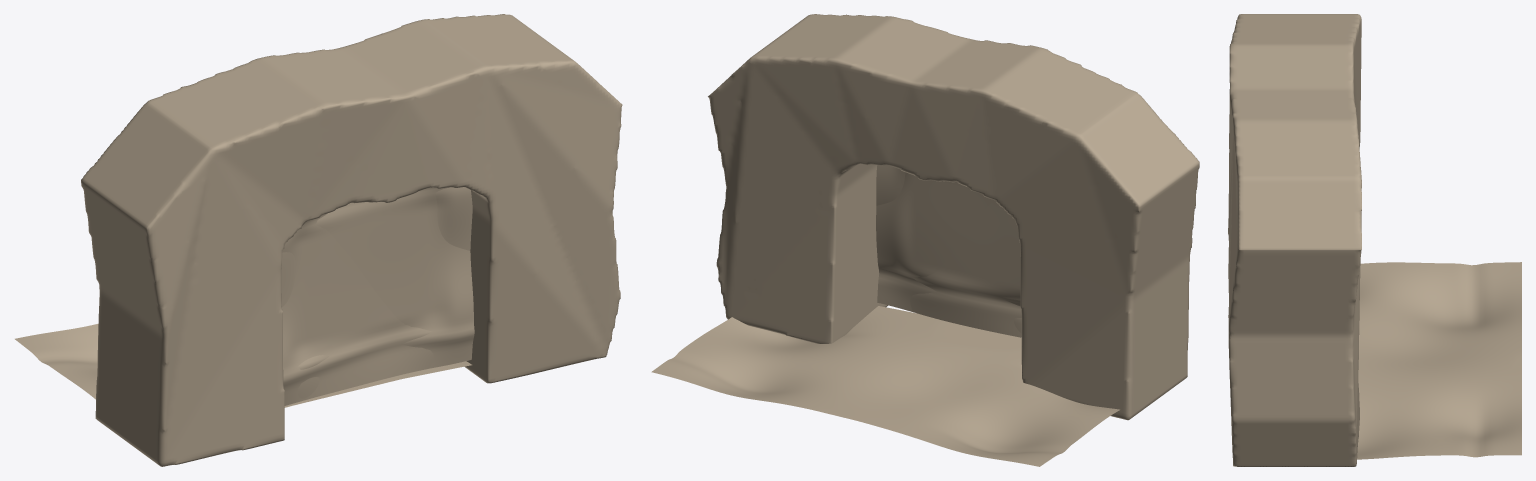
The model's file is prehistoric.glb.
The picture shows the model from 3 angles, left to right: view 1: azimuth 30°, elevation 25°; view 2: azimuth 150°, elevation 25°; view 3: azimuth 270°, elevation 25°; orthographic projection. The views are drawn at different scales.
Visible parts, largest first — view 1: Arch_mesh, WallA_mesh, WallB_mesh, Ceil_mesh; view 2: Arch_mesh, Ceil_mesh, WallB_mesh, WallA_mesh; view 3: Arch_mesh, Ceil_mesh.
Boxes of the visible parts, left/top/right/bottom form: Arch_mesh: left=81, top=14, right=622, bottom=466; WallA_mesh: left=282, top=187, right=472, bottom=405; WallB_mesh: left=281, top=187, right=474, bottom=398; Ceil_mesh: left=15, top=324, right=471, bottom=407; Arch_mesh: left=708, top=14, right=1199, bottom=420; Ceil_mesh: left=651, top=306, right=1119, bottom=466; WallB_mesh: left=876, top=165, right=1021, bottom=337; WallA_mesh: left=876, top=172, right=1021, bottom=333; Arch_mesh: left=1228, top=14, right=1361, bottom=466; Ceil_mesh: left=1357, top=262, right=1521, bottom=459.
Size of the model in its own units: 8.87 by 5.91 by 5.14.
